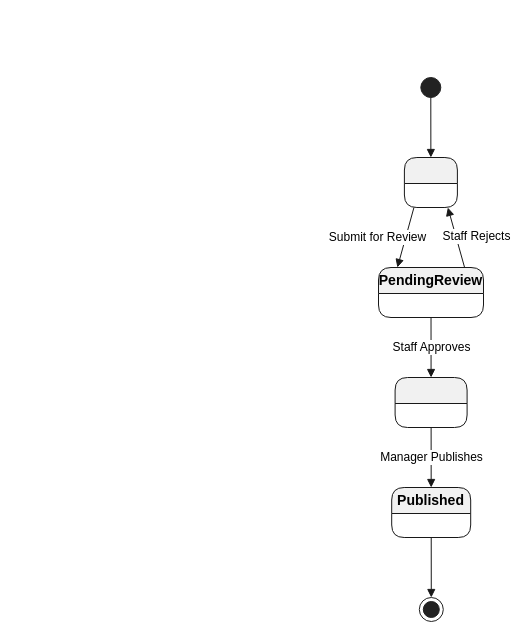
The diagram is 528 pixels wide and 639 high, and some of its shapes have lost their labels. Each missing label, with the centre of its shape:
"Approved" goes at point (430, 402).
"Draft" goes at point (430, 182).
